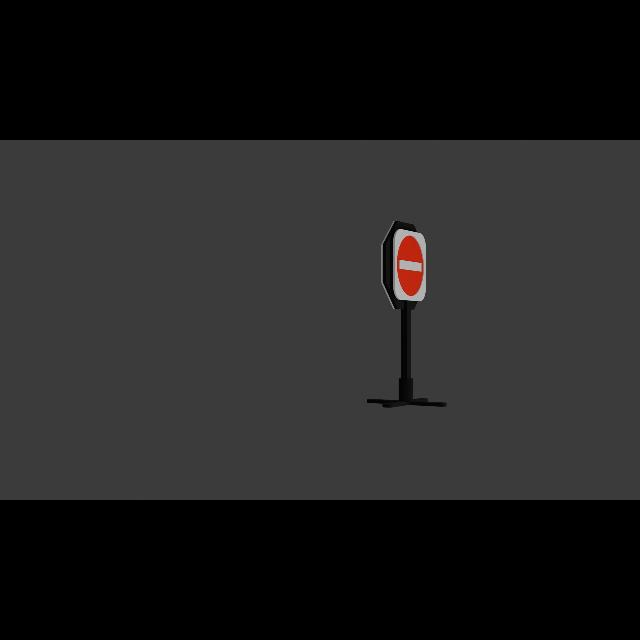sign_noentry: (396, 233, 426, 299)
